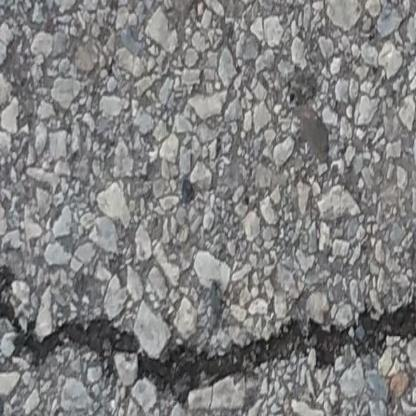Cracks: (0, 272, 416, 405)
